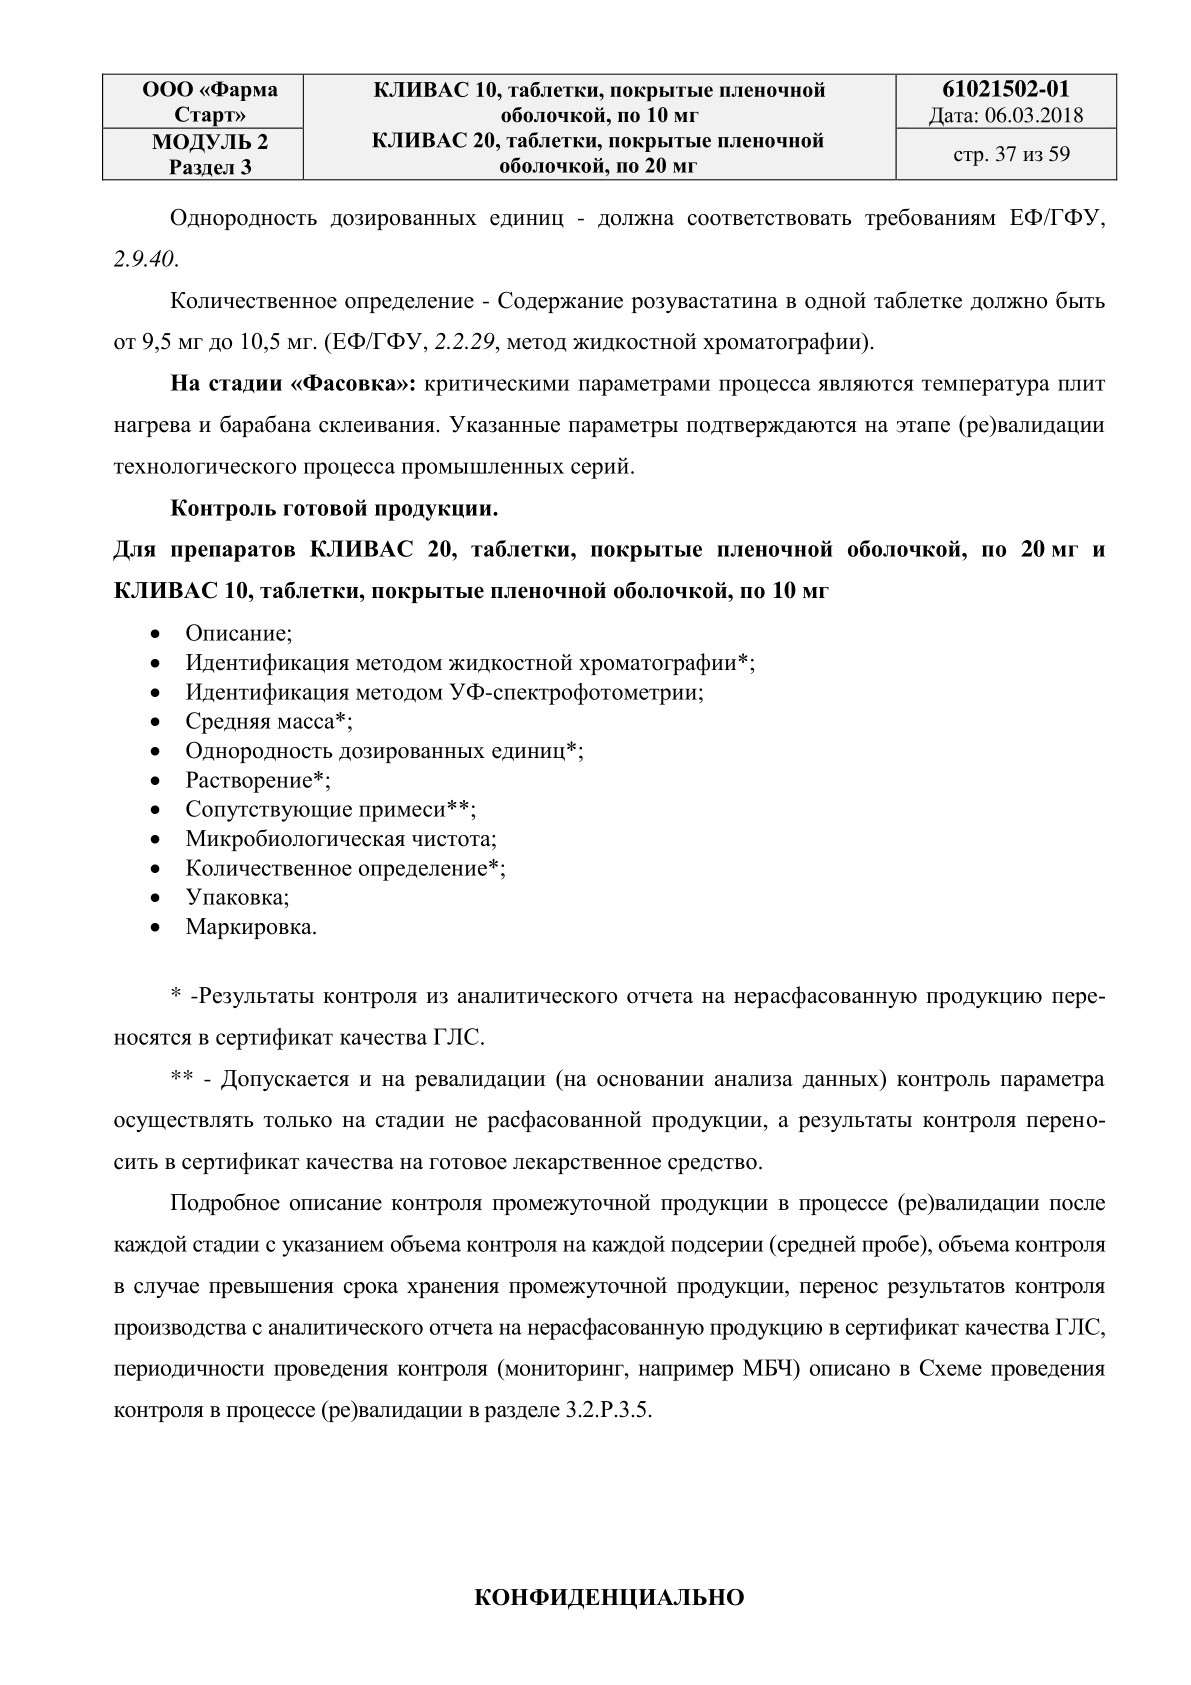merged_cells: (102, 73, 1118, 180)
